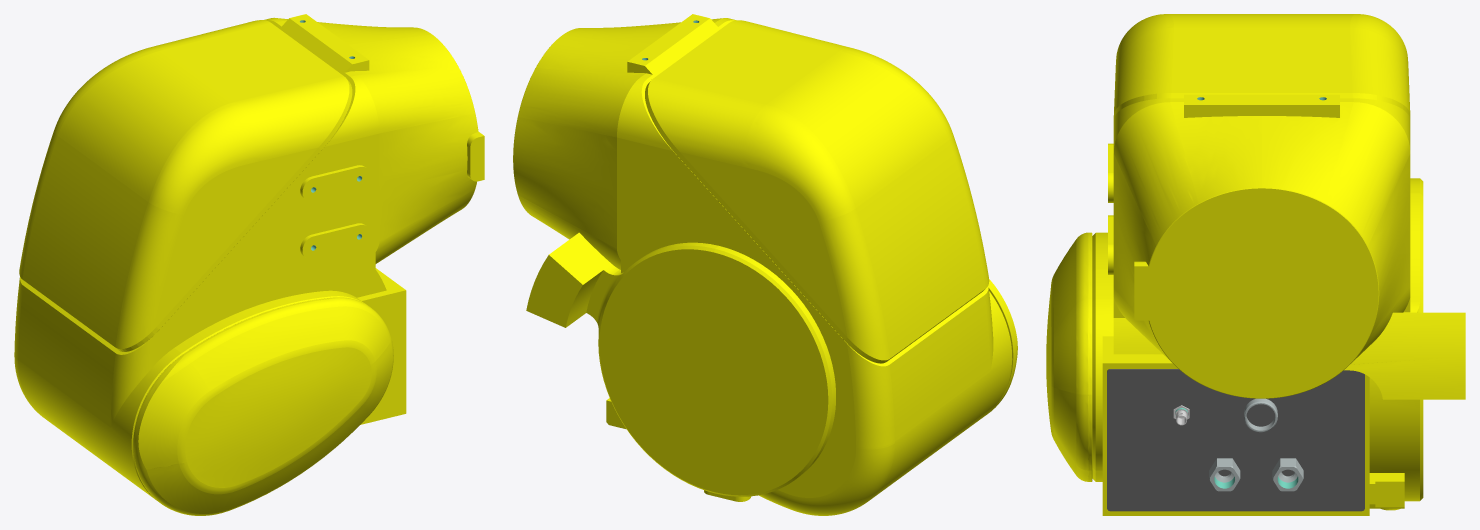
The picture shows the model from 3 angles, left to right: view 1: azimuth 30°, elevation 25°; view 2: azimuth 150°, elevation 25°; view 3: azimuth 270°, elevation 25°; orthographic projection. The views are drawn at different scales.
Parts seen in each view (by area): view 1: Mesh_0; view 2: Mesh_0; view 3: Mesh_0.
Boxes of the visible parts, x1,y1,x2,y2 form: Mesh_0: (14,14,484,515); Mesh_0: (513,14,1017,515); Mesh_0: (1046,14,1465,515).
Size of the model in its own units: 0.4652 by 0.3709 by 0.4558.
